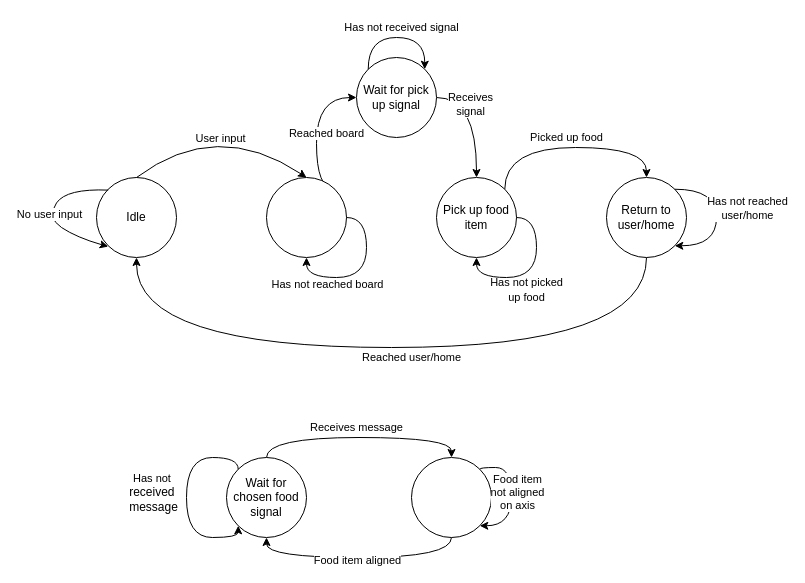
Image size: 805x583. Some labels were removed from this diagram. The centre of each missing label's shape, as x and y in pixels:
"Move towards charcuterie board" goes at point 306,217.
"Spin board" goes at point 451,497.
